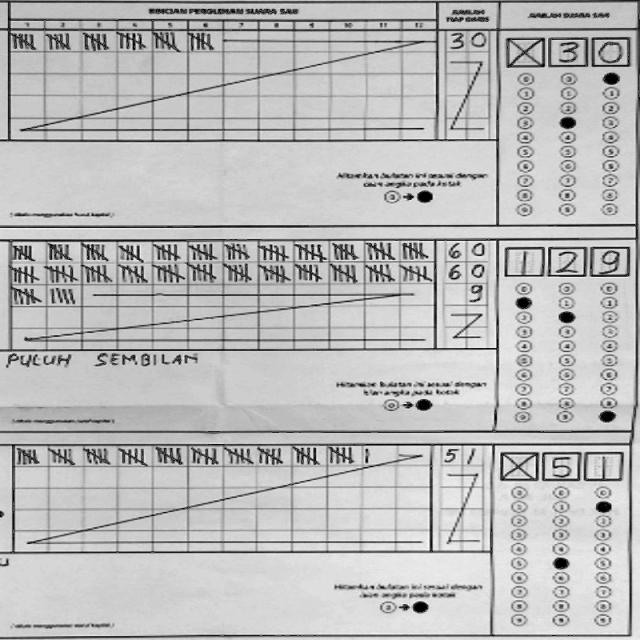Suara: (494, 446, 624, 484), (501, 241, 630, 278), (505, 31, 632, 68)
